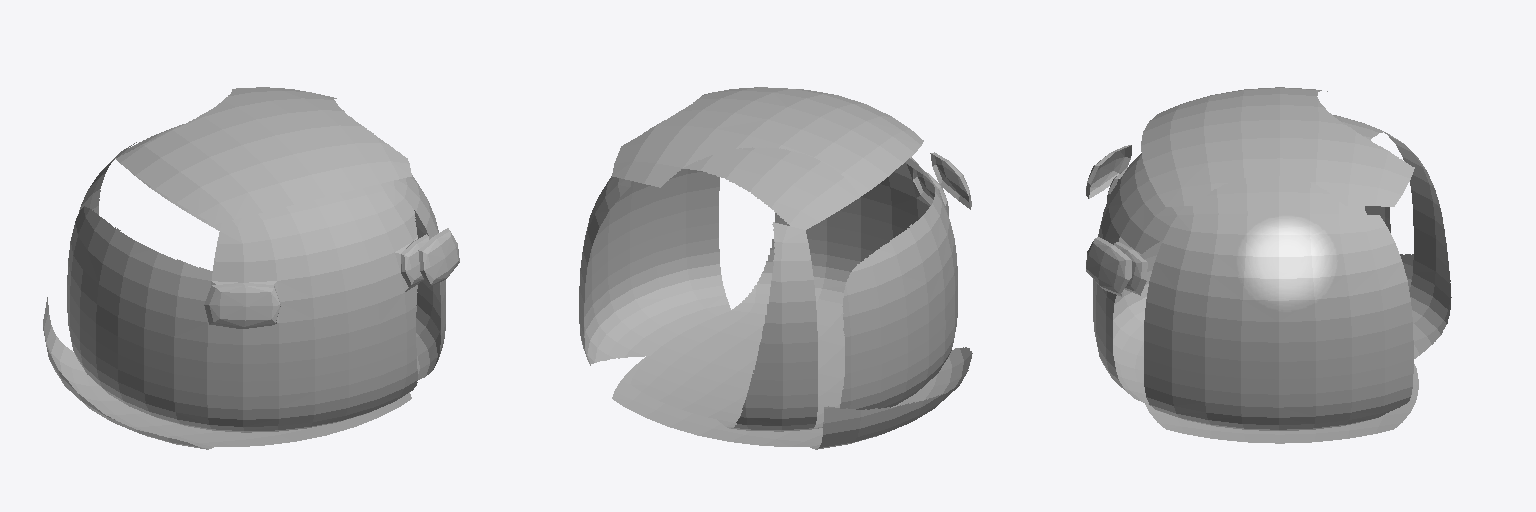
3 views of the same model, side by side, from view 1: azimuth 30°, elevation 25°; view 2: azimuth 150°, elevation 25°; view 3: azimuth 270°, elevation 25° (orthographic).
Visible parts, largest first — view 1: Cube_Mesh; view 2: Cube_Mesh; view 3: Cube_Mesh.
Boxes of the visible parts, x1,y1,x2,y2 form: Cube_Mesh: [43, 87, 459, 449]; Cube_Mesh: [579, 87, 972, 449]; Cube_Mesh: [1086, 87, 1451, 443].
Size of the model in its own units: 1.46 by 1.05 by 1.46.
Materials: 1 (1 with a texture image).